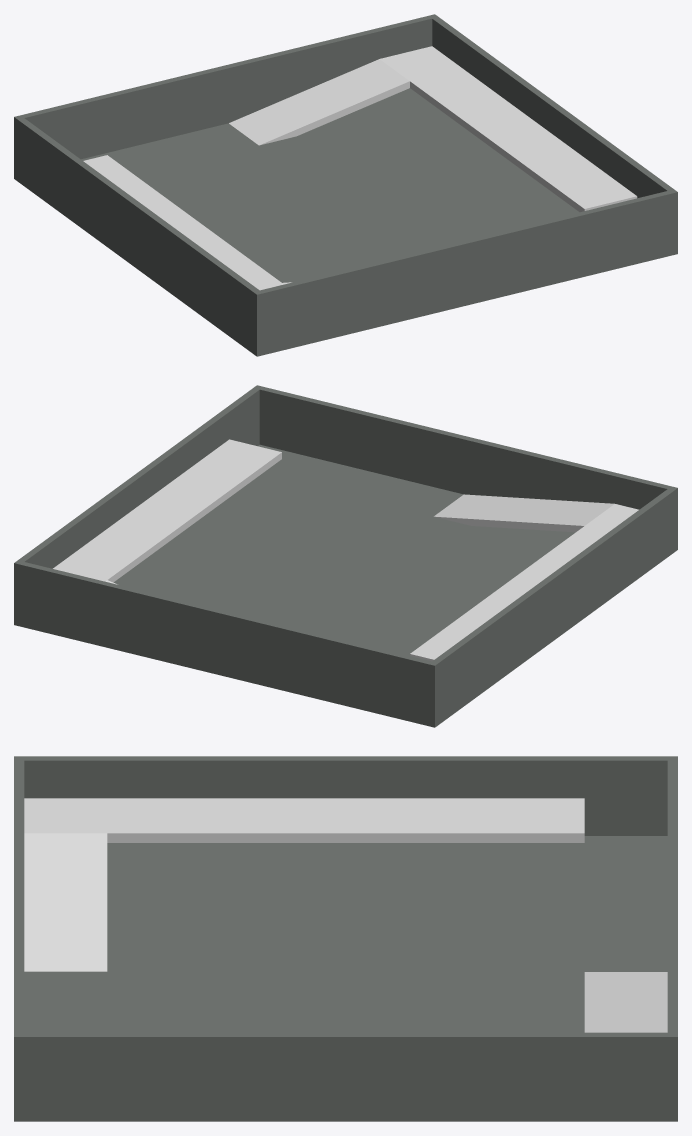
Rendered from level.glb.
3 renders of one model, top to bottom at view 1: azimuth 30°, elevation 25°; view 2: azimuth 150°, elevation 25°; view 3: azimuth 270°, elevation 25°, orthographic. The views are drawn at different scales.
Parts seen in each view (by area): view 1: Floor-col, Wall.S-col, Wall.N-col, Wall.W-col, Balcony.E-col, Wall.E-col, Balcony.N-col, Balcony.W-col; view 2: Floor-col, Wall.N-col, Wall.S-col, Wall.W-col, Balcony.E-col, Wall.E-col, Balcony.W-col, Balcony.S-col; view 3: Floor-col, Wall.E-col, Wall.W-col, Balcony.W-col, Balcony.S-col, Balcony.N-col, Wall.S-col, Wall.N-col.
Boxes of the visible parts, x1,y1,x2,y2 form: Floor-col: [14, 88, 677, 356]; Wall.S-col: [260, 189, 677, 347]; Wall.N-col: [14, 16, 432, 174]; Wall.W-col: [17, 118, 263, 349]; Balcony.E-col: [380, 46, 637, 212]; Wall.E-col: [428, 14, 675, 198]; Balcony.N-col: [229, 59, 409, 145]; Balcony.W-col: [83, 155, 283, 290]; Floor-col: [14, 444, 677, 727]; Wall.N-col: [20, 562, 438, 720]; Wall.S-col: [254, 385, 670, 509]; Wall.W-col: [432, 486, 677, 717]; Balcony.E-col: [53, 439, 281, 582]; Wall.E-col: [14, 385, 262, 619]; Balcony.W-col: [410, 504, 638, 661]; Balcony.S-col: [434, 494, 614, 532]; Floor-col: [14, 836, 677, 1121]; Wall.E-col: [14, 1032, 677, 1112]; Wall.W-col: [14, 756, 667, 835]; Balcony.W-col: [24, 798, 584, 842]; Balcony.S-col: [24, 833, 107, 971]; Balcony.N-col: [584, 972, 667, 1032]; Wall.S-col: [14, 760, 24, 1112]; Wall.N-col: [667, 756, 677, 1032].
Size of the model in its own units: 64 by 9 by 64.
2 materials, 1 textured.
